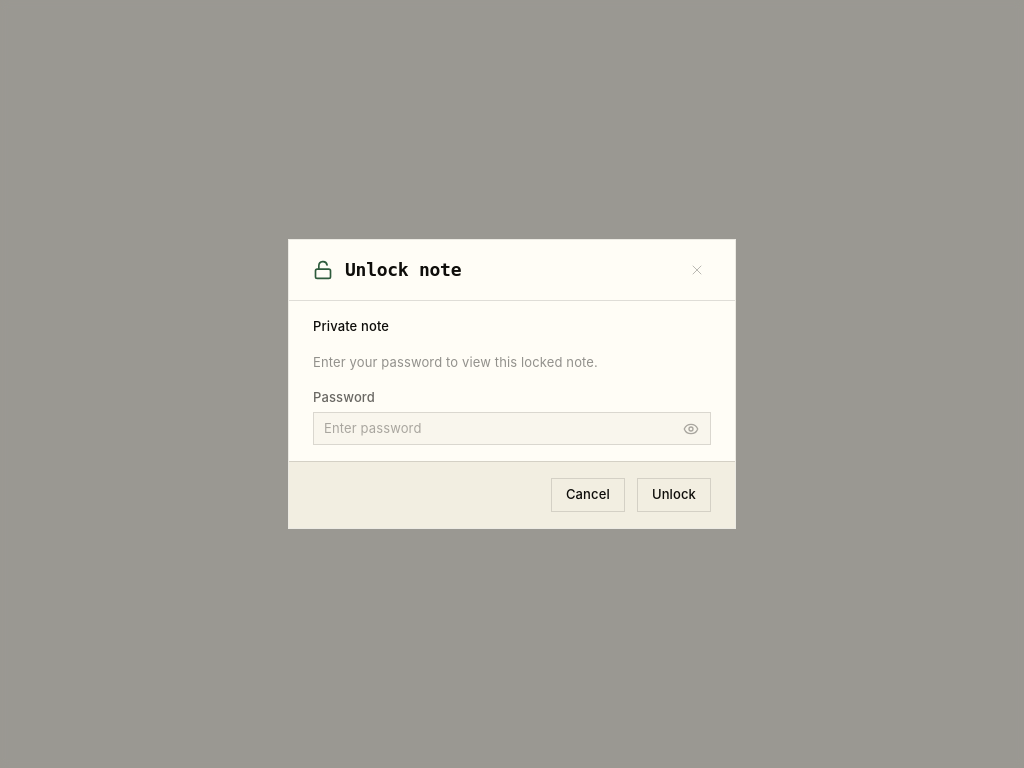
Test: PasswordModal wrong password › says how many attempts are left once, not twice
Type "wrong-one" into the password field labelled "Password".
click(512, 429); type("wrong-one")  # box [313,412,711,445]
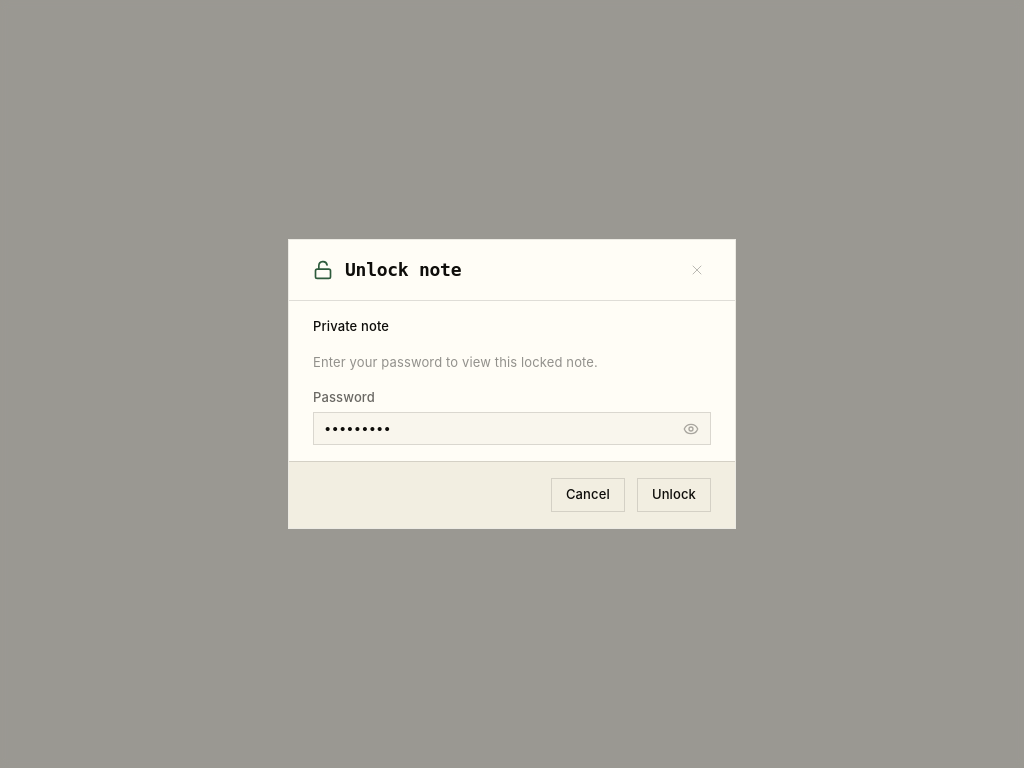
Click the button "Unlock".
click(674, 495)  # box [637,478,711,512]
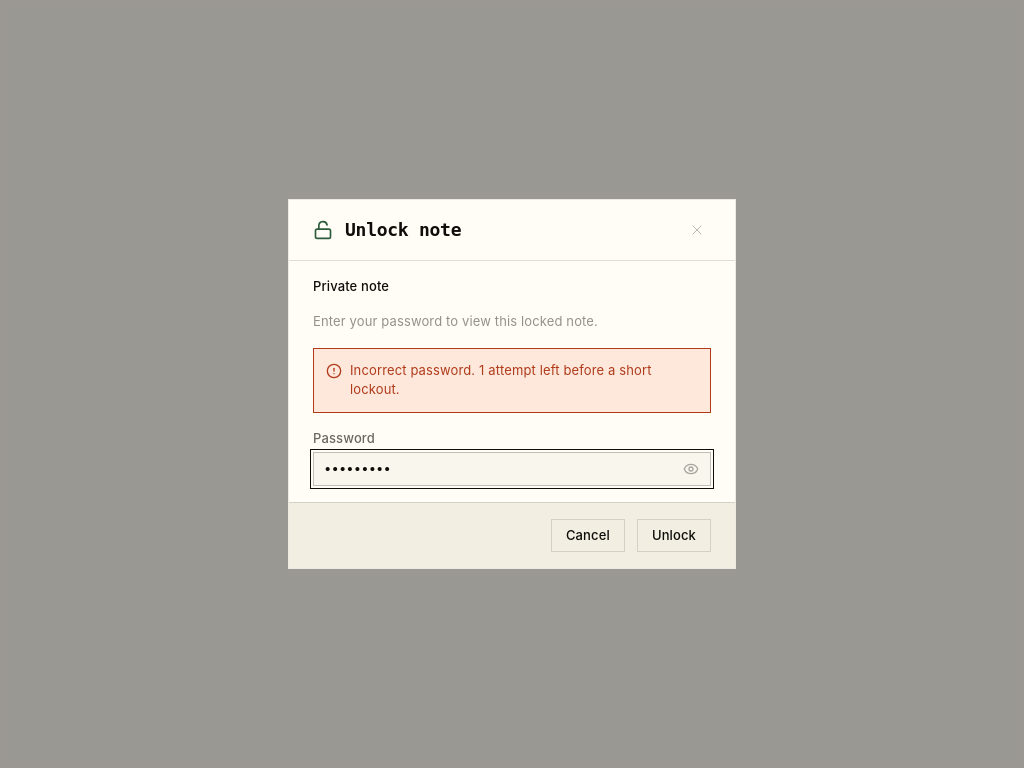
Now the text "Incorrect password. 1 attempt left before a short lockout." is shown, box [350,361,698,400]
